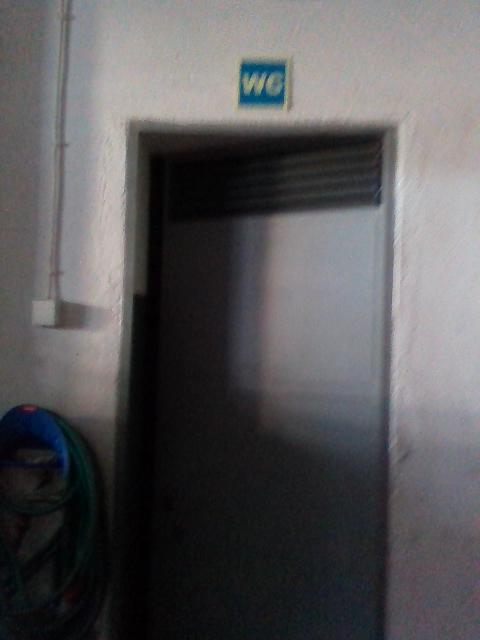door: (108, 121, 397, 632)
